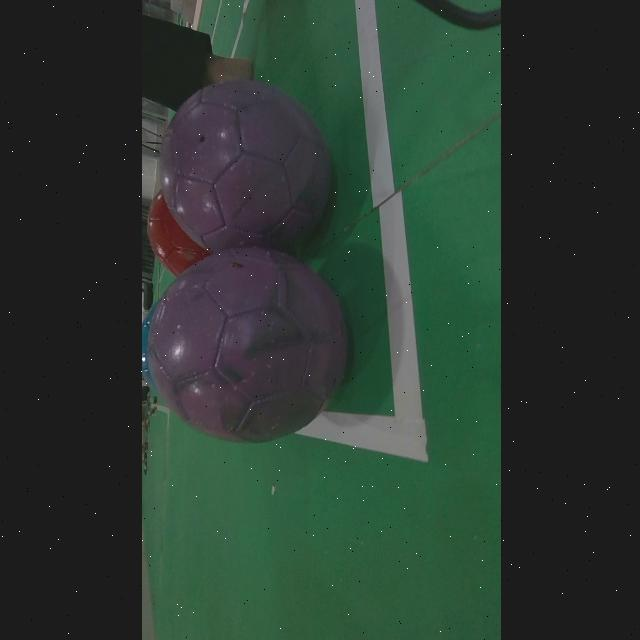B: (140, 302, 155, 393)
P: (146, 248, 345, 442), (159, 79, 329, 252)
R: (146, 191, 207, 276)
